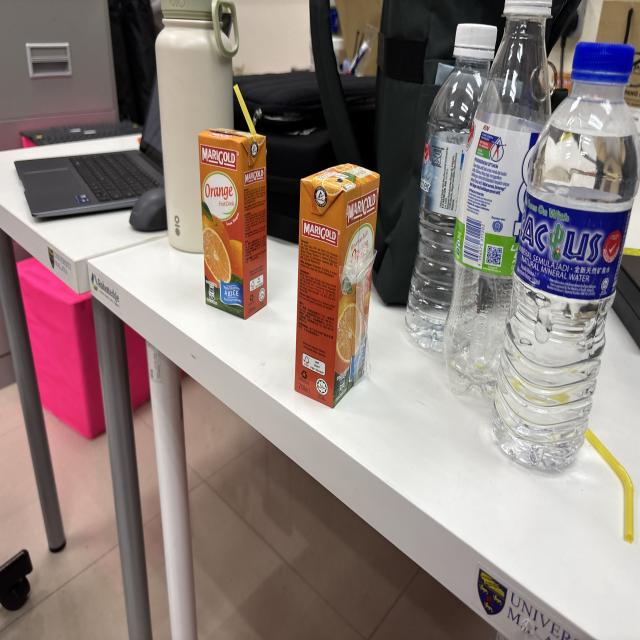drink_carton: (291, 151, 380, 412), (191, 80, 273, 326)
plastic_bottle: (488, 33, 640, 486), (434, 1, 564, 425), (403, 16, 508, 373)
